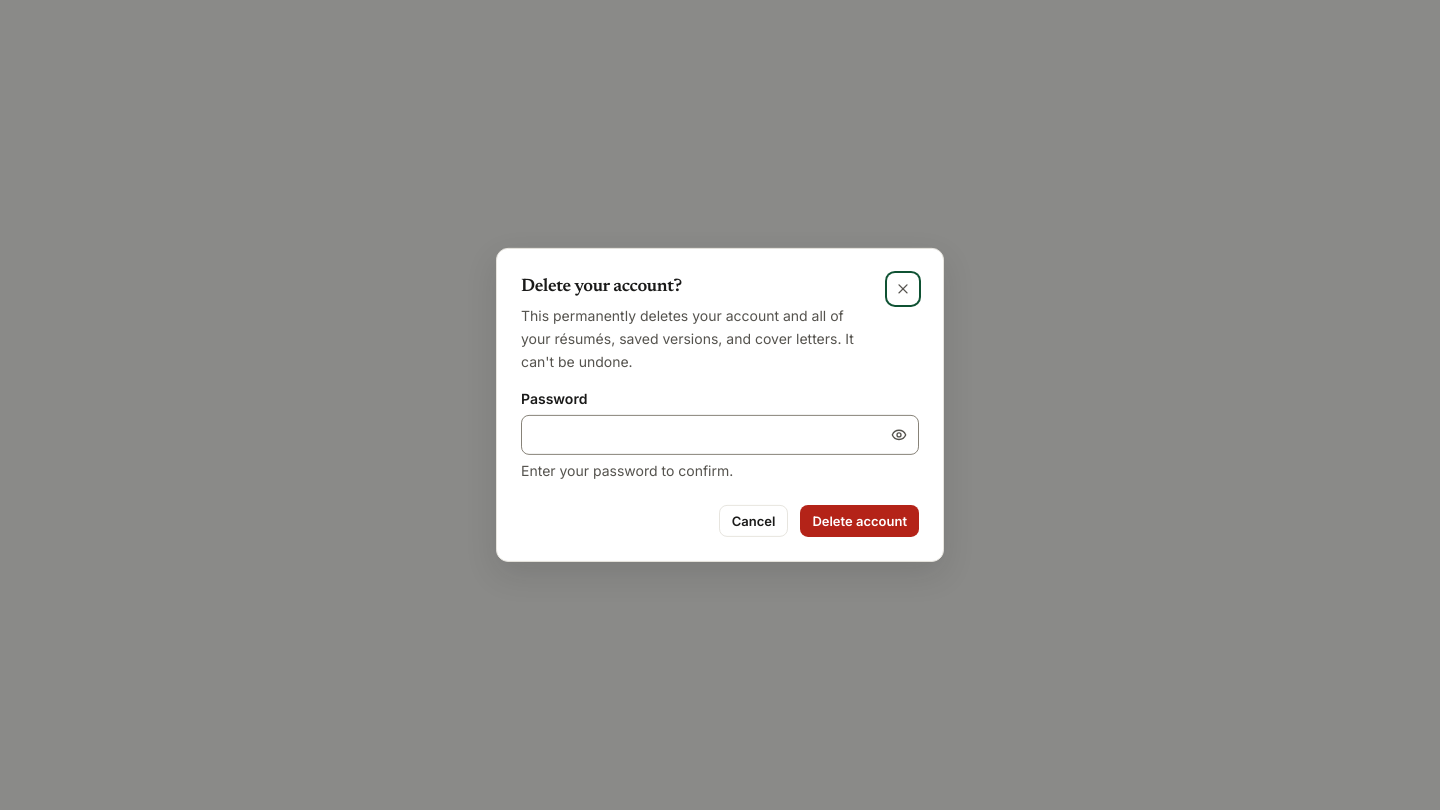
DeleteAccountDialog › shows a wrong-password error and keeps the session
Type "nope" into the password field labelled "Password" at x=720, y=435, box [521,415,919,455]
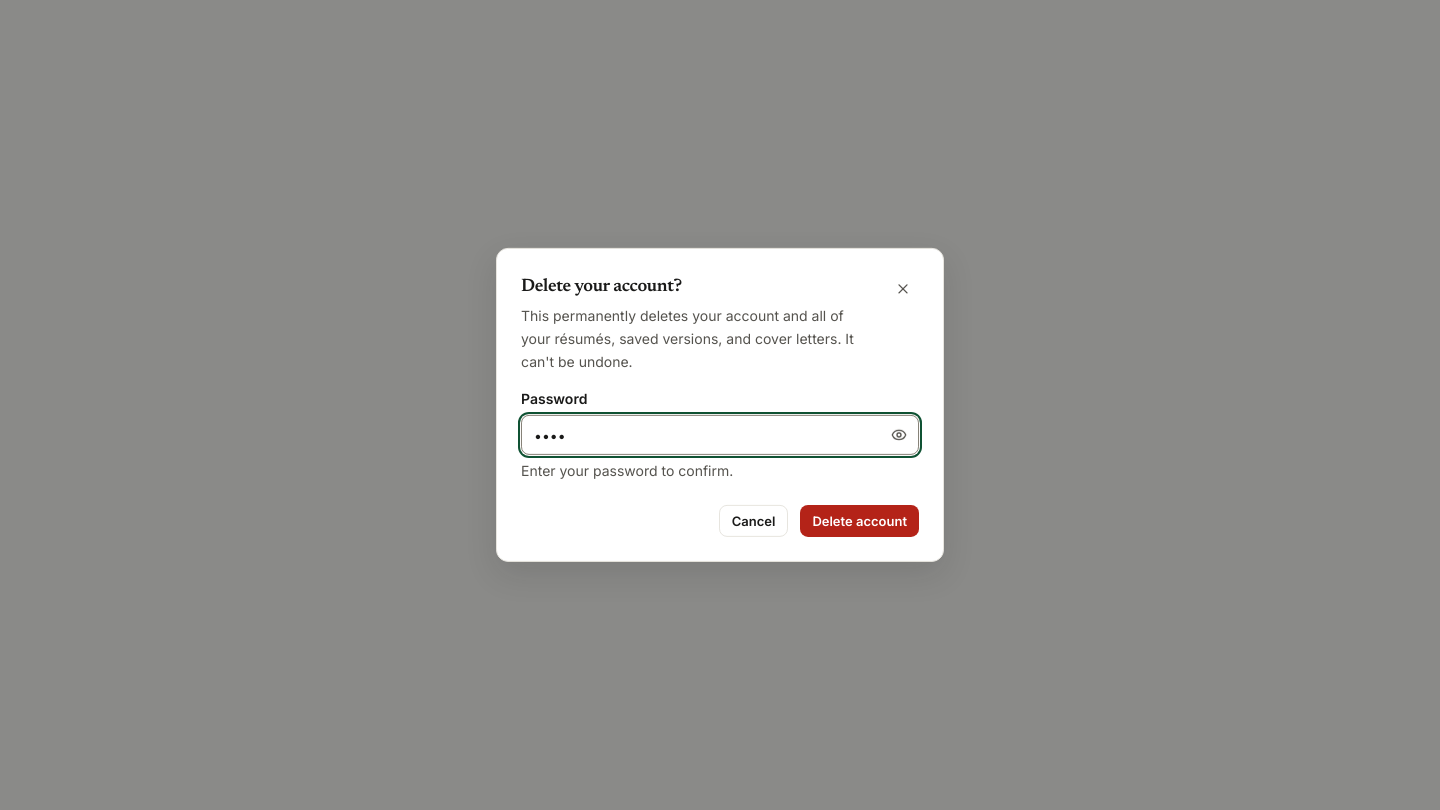
Click the button "Delete account" at x=860, y=521, box [800,505,919,537]
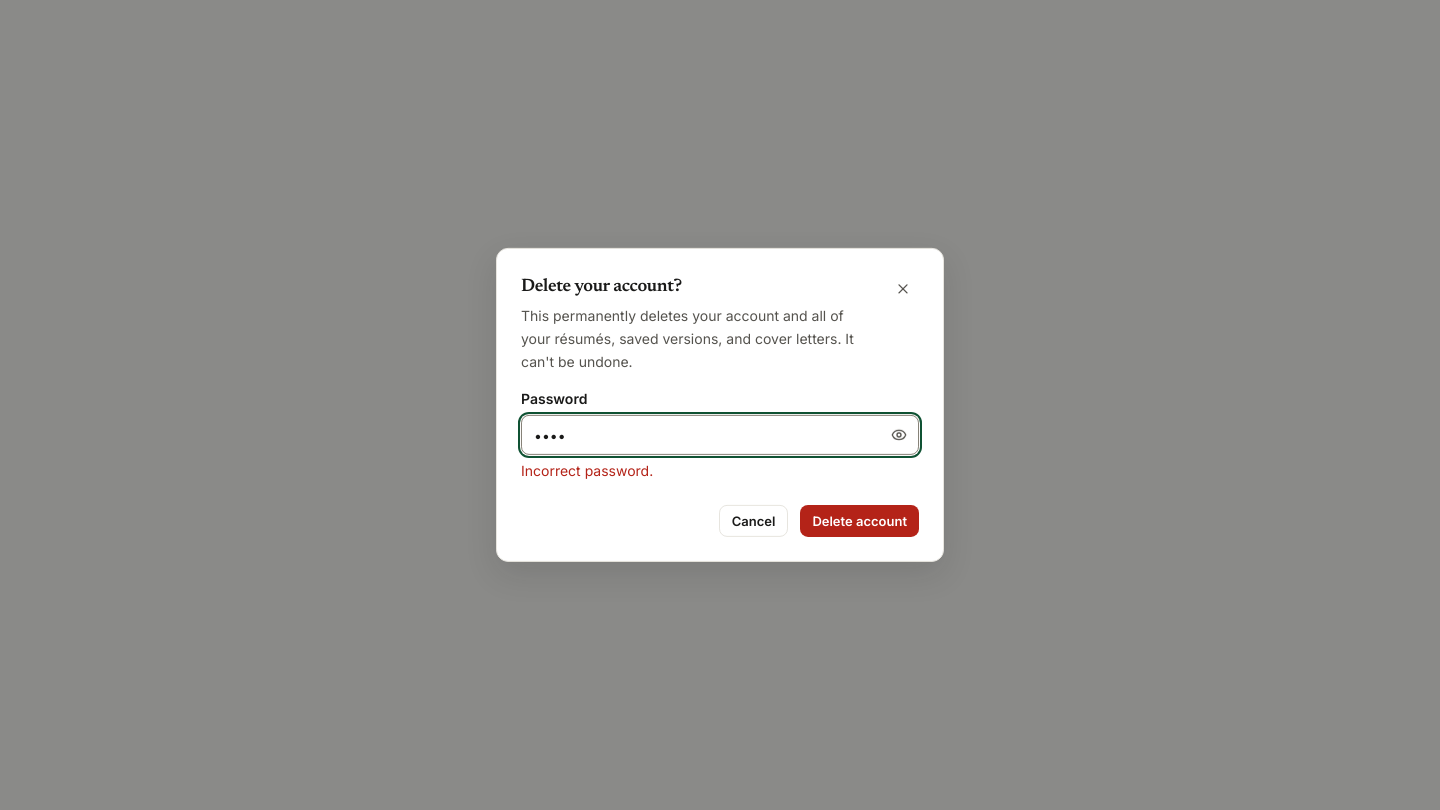
Expected: the text "Incorrect password." is shown, [521,462,653,479]
